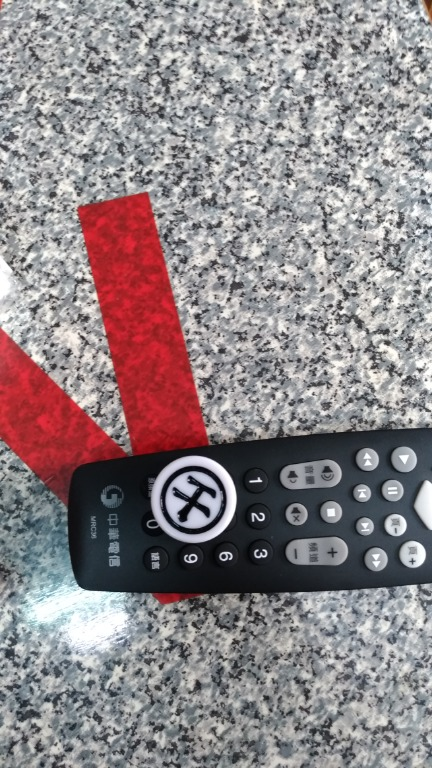b-advisor: (130, 449, 260, 559)
